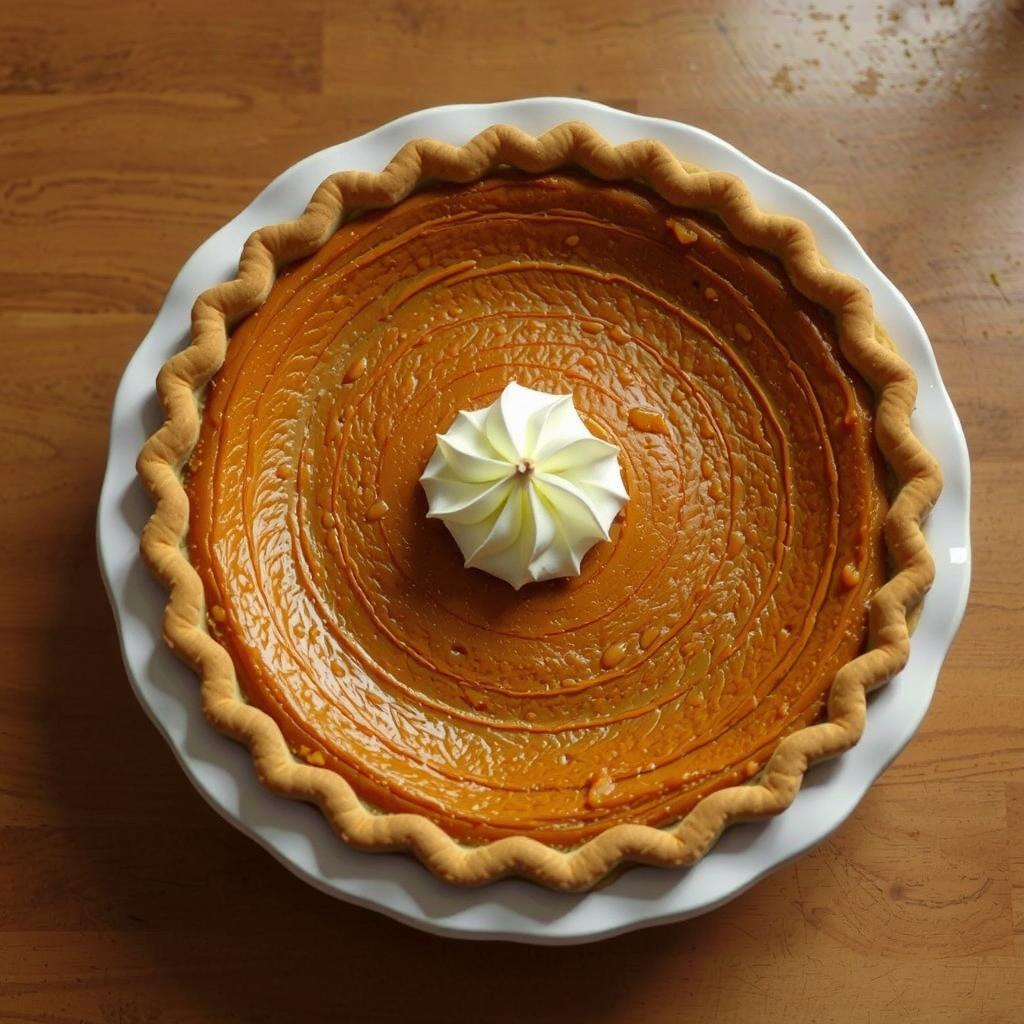pie: (127, 114, 949, 896)
